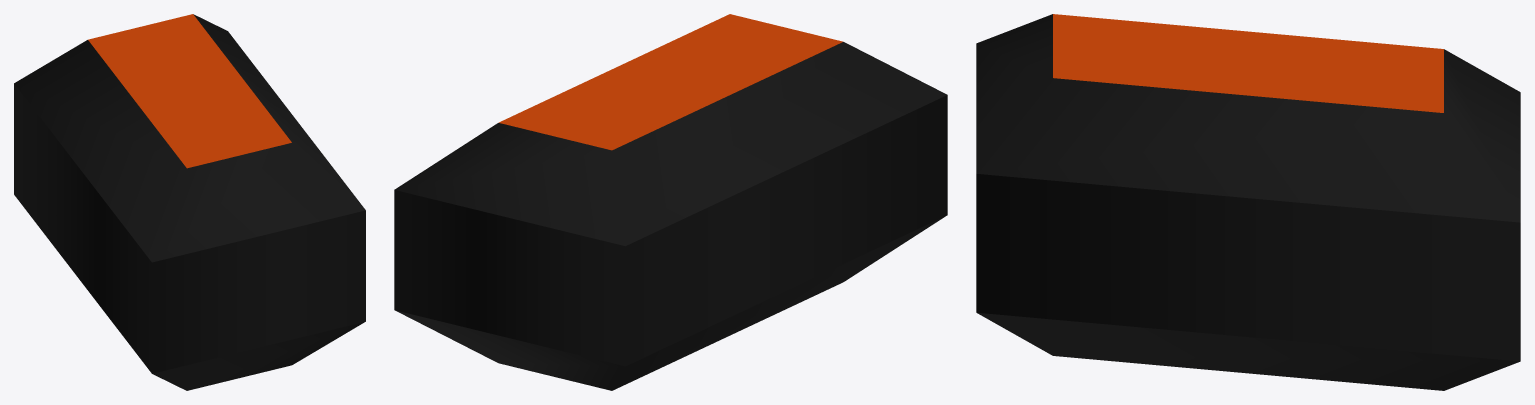
The model's file is Apostrophe.fbx.
3 renders of one model, left to right at view 1: azimuth 30°, elevation 25°; view 2: azimuth 150°, elevation 25°; view 3: azimuth 270°, elevation 25°, orthographic. The views are drawn at different scales.
Visible parts, largest first — view 1: Text; view 2: Text; view 3: Text.
Boxes of the visible parts, left/top/right/bottom form: Text: left=14, top=14, right=365, bottom=390; Text: left=394, top=14, right=947, bottom=390; Text: left=976, top=14, right=1520, bottom=390.
Bounding box in the file's own units: 0.2213 × 0.16 × 0.2842.
